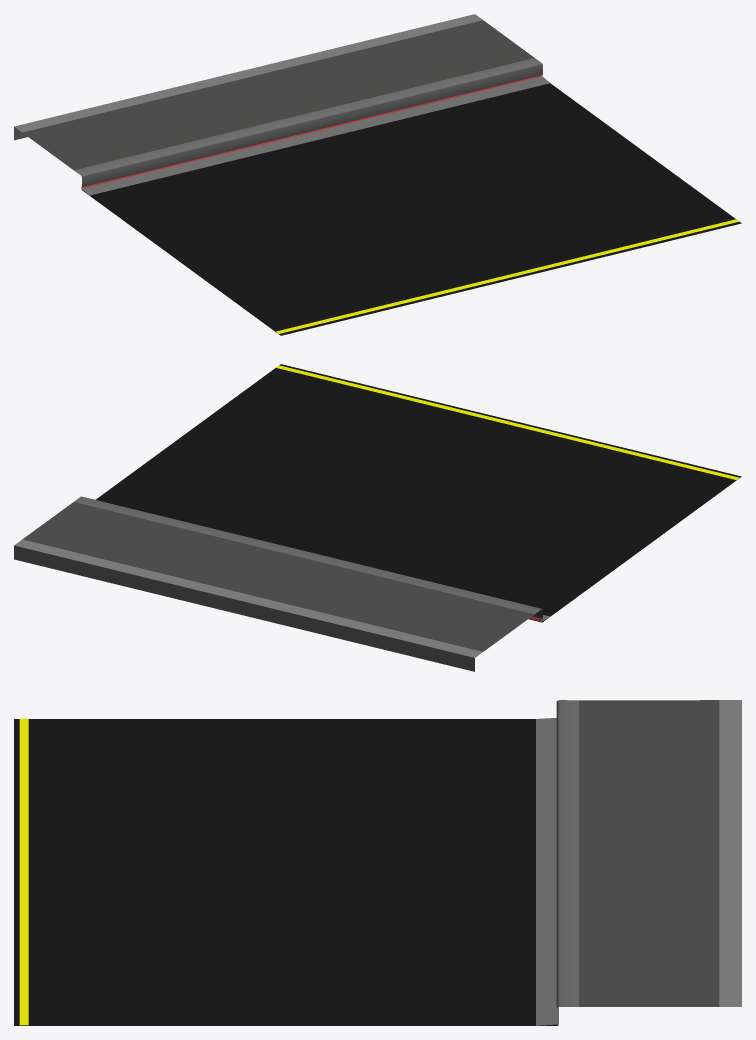
3 views of the same model, one above another, from view 1: azimuth 30°, elevation 25°; view 2: azimuth 150°, elevation 25°; view 3: azimuth 270°, elevation 25° (orthographic). The views are drawn at different scales.
Parts seen in each view (by area): view 1: W_R_001_8x8_B_L2; view 2: W_R_001_8x8_B_L2; view 3: W_R_001_8x8_B_L2.
Part boxes in pixels (bbox=[...]): W_R_001_8x8_B_L2: bbox=[14, 14, 741, 335]; W_R_001_8x8_B_L2: bbox=[14, 364, 741, 671]; W_R_001_8x8_B_L2: bbox=[14, 700, 741, 1025].
Bounding box in the file's own units: 8 × 0.2321 × 8.02.
